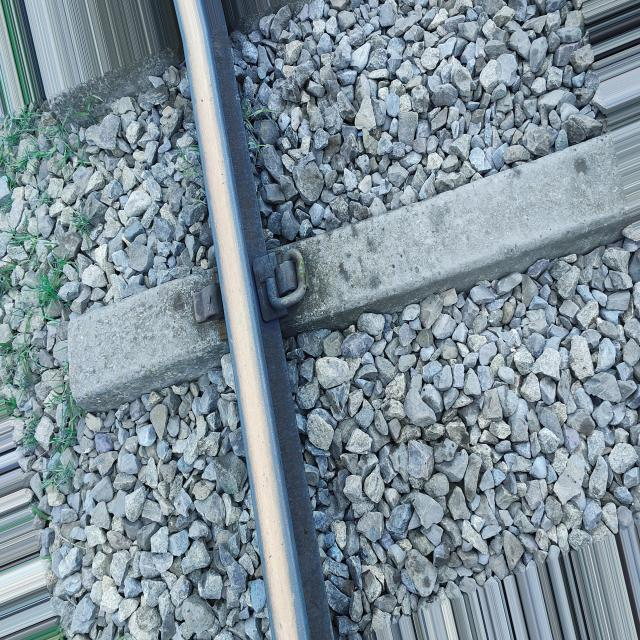Good Fasteners: (252, 247, 310, 321)
Missing Fastener: (173, 268, 224, 329)
